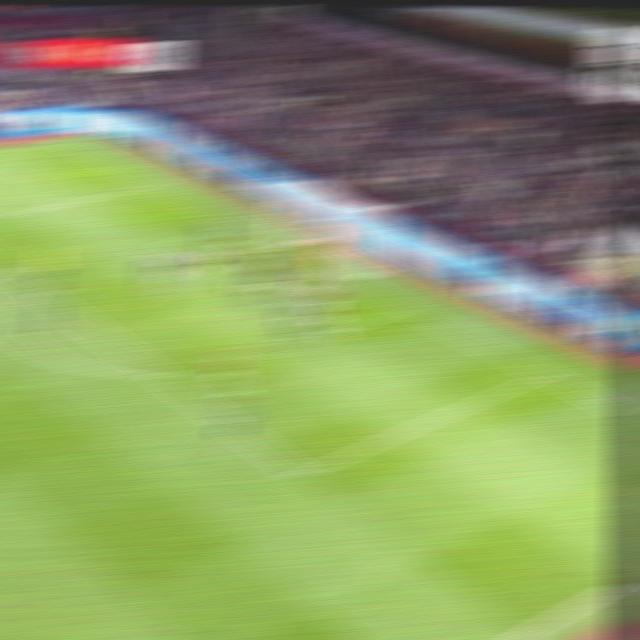bigarea_bottom_inner: (285, 461, 320, 486)
bigarea_bottom_outter: (530, 366, 558, 380)
bigarea_top_outter: (140, 178, 166, 191)
bottom_arc_area_intersection: (146, 366, 175, 383)
corner: (51, 137, 78, 145)
smallarea_bottom_inner: (322, 321, 352, 336)
smallarea_bottom_outter: (390, 300, 419, 314)
smallarea_top_inner: (157, 235, 185, 249)
smallarea_top_outter: (219, 217, 246, 230)
top_arc_area_intersection: (17, 280, 43, 293)
